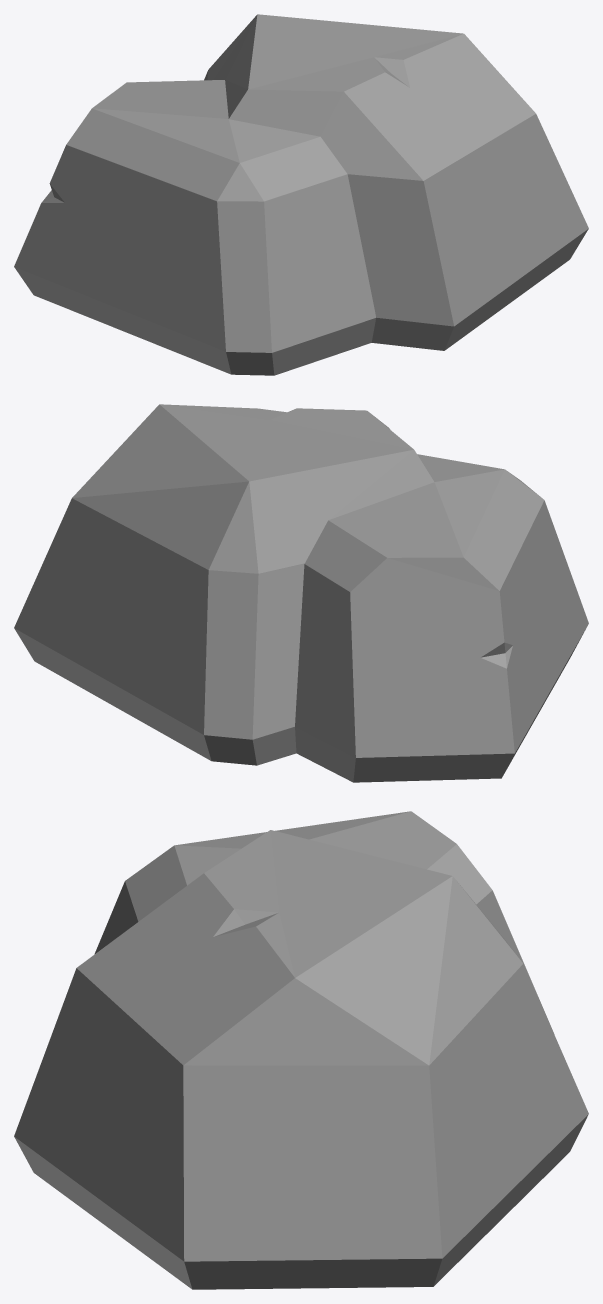
File: rock3.glb
3 renders of one model, top to bottom at view 1: azimuth 30°, elevation 25°; view 2: azimuth 150°, elevation 25°; view 3: azimuth 270°, elevation 25°, orthographic. The views are drawn at different scales.
Parts seen in each view (by area): view 1: rock10.natural.light; view 2: rock10.natural.light; view 3: rock10.natural.light.
Part boxes in pixels (left/top/right/bottom): rock10.natural.light: left=14, top=14, right=588, bottom=375; rock10.natural.light: left=14, top=404, right=588, bottom=782; rock10.natural.light: left=14, top=811, right=588, bottom=1289.
Bounding box in the file's own units: 2.77 × 1.25 × 2.3.
1 material, 1 textured.
